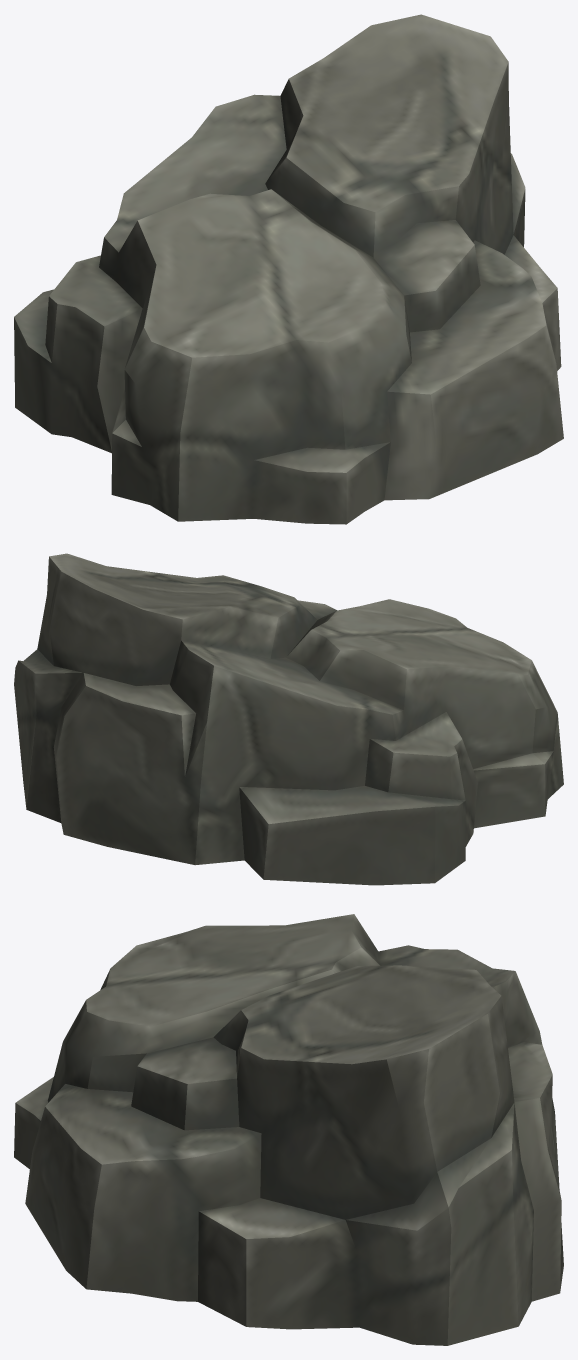
The model's file is Rock_11.fbx.
3 renders of one model, top to bottom at view 1: azimuth 30°, elevation 25°; view 2: azimuth 150°, elevation 25°; view 3: azimuth 270°, elevation 25°, orthographic. The views are drawn at different scales.
Parts seen in each view (by area): view 1: polySurface565; view 2: polySurface565; view 3: polySurface565.
Boxes of the visible parts, bbox=[...] form: polySurface565: bbox=[14, 14, 563, 524]; polySurface565: bbox=[14, 553, 563, 885]; polySurface565: bbox=[14, 914, 563, 1345].
Bounding box in the file's own units: 67.97 × 58.49 × 35.19.
